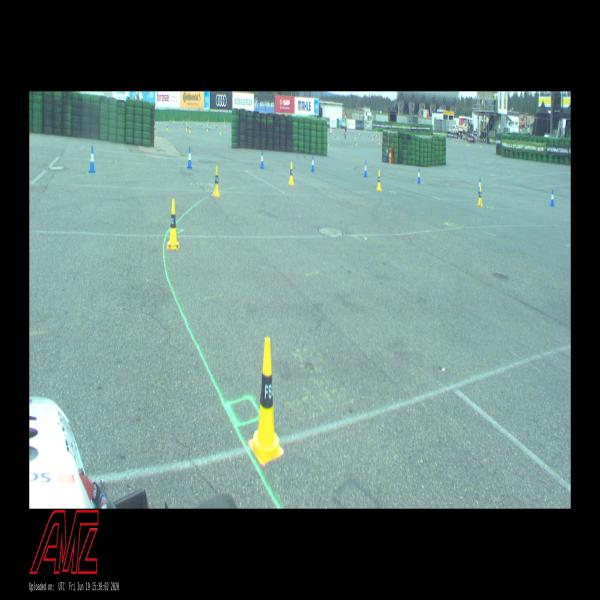blue_cone: (88, 146, 95, 173), (187, 147, 192, 169), (550, 190, 555, 207), (260, 151, 264, 169), (478, 177, 482, 194), (311, 156, 314, 172), (364, 161, 367, 177), (418, 168, 420, 184), (183, 119, 184, 124), (368, 133, 369, 138), (373, 133, 374, 138), (216, 124, 217, 128), (201, 122, 202, 126), (342, 132, 343, 136), (335, 134, 336, 138), (226, 124, 227, 128)
orange_cone: (225, 126, 227, 131)
yellow_cone: (249, 338, 283, 464), (167, 198, 180, 250), (213, 166, 221, 198), (288, 162, 294, 185), (377, 170, 382, 191), (478, 186, 482, 207), (207, 124, 209, 132), (186, 119, 188, 124), (190, 125, 191, 133), (358, 132, 360, 136), (220, 128, 221, 135), (155, 126, 156, 133), (328, 140, 329, 146), (186, 124, 187, 130), (356, 140, 357, 146), (167, 124, 168, 130), (188, 119, 190, 122), (355, 135, 356, 140), (173, 117, 174, 122), (372, 135, 373, 140), (224, 121, 225, 126), (379, 140, 380, 144), (376, 132, 377, 136), (214, 122, 215, 126), (456, 140, 457, 144), (197, 122, 198, 125), (208, 119, 209, 122), (338, 134, 338, 139)
